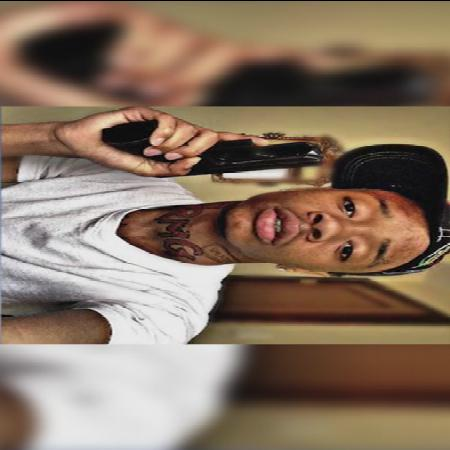Pistol: (109, 120, 323, 178)
